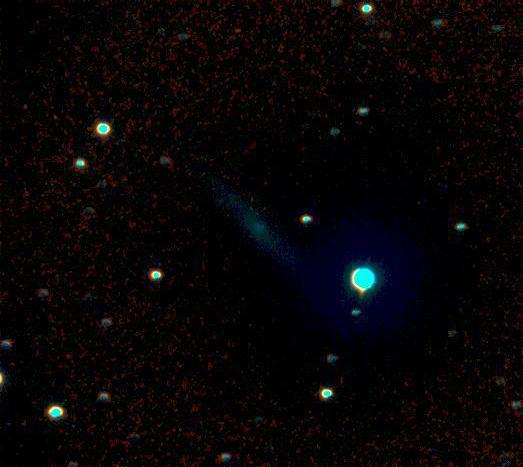star: (200, 190, 230, 220)
